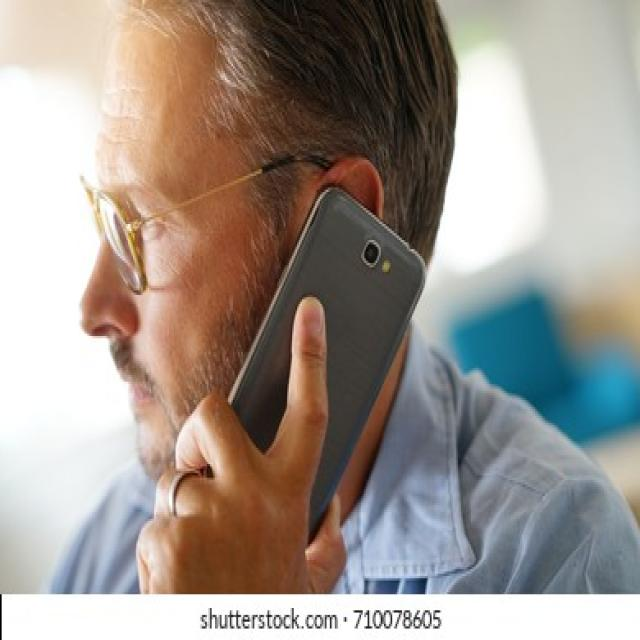phone: (220, 183, 426, 537)
